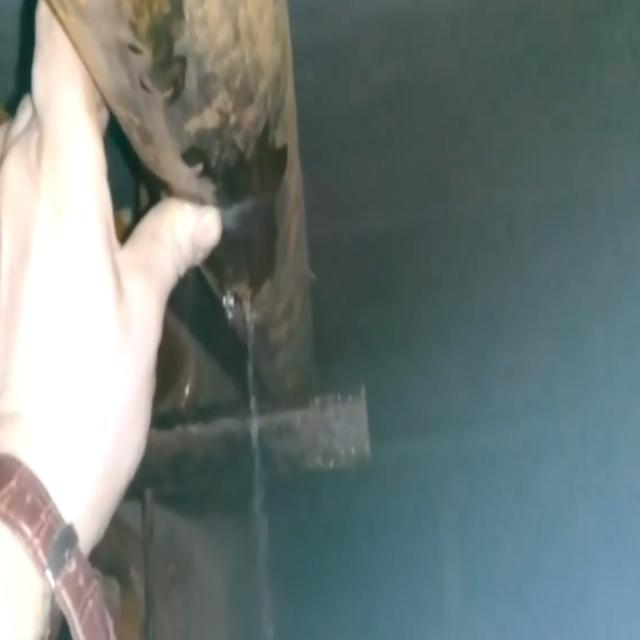leak: (242, 290, 274, 638)
